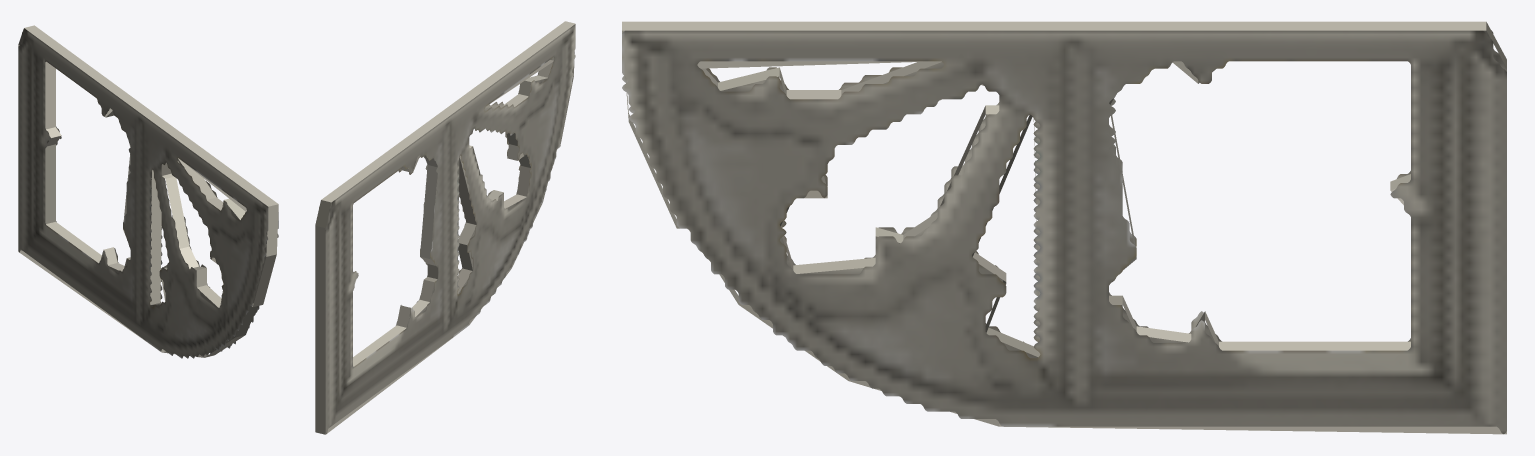
Rendered from pz_native_fixtures_windows_church_66_frame.obj.
The picture shows the model from 3 angles, left to right: view 1: azimuth 30°, elevation 25°; view 2: azimuth 150°, elevation 25°; view 3: azimuth 270°, elevation 25°; orthographic projection. The views are drawn at different scales.
Parts seen in each view (by area): view 1: pz_native_fixtures_windows_church_66_frame; view 2: pz_native_fixtures_windows_church_66_frame; view 3: pz_native_fixtures_windows_church_66_frame.
Boxes of the visible parts, box(x1,y1,x2,y2) form: pz_native_fixtures_windows_church_66_frame: box(18, 25, 278, 358); pz_native_fixtures_windows_church_66_frame: box(315, 21, 575, 434); pz_native_fixtures_windows_church_66_frame: box(622, 21, 1506, 434).
Bounding box in the file's own units: 0.04 × 0.8594 × 1.7.
Materials: 1 (1 with a texture image).
